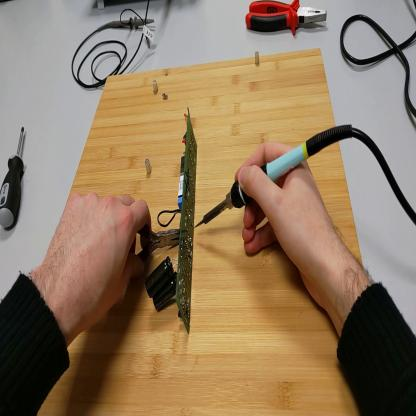hand: (233, 142, 338, 298), (46, 190, 152, 331)
high voltage board: (145, 109, 198, 334)
oscilloscope probe tip: (111, 13, 155, 34)
pliers: (244, 3, 331, 36), (138, 219, 183, 265)
screwdriver-: (2, 126, 27, 233)
welder probe tip: (194, 122, 352, 228)
working area: (41, 47, 371, 416)
